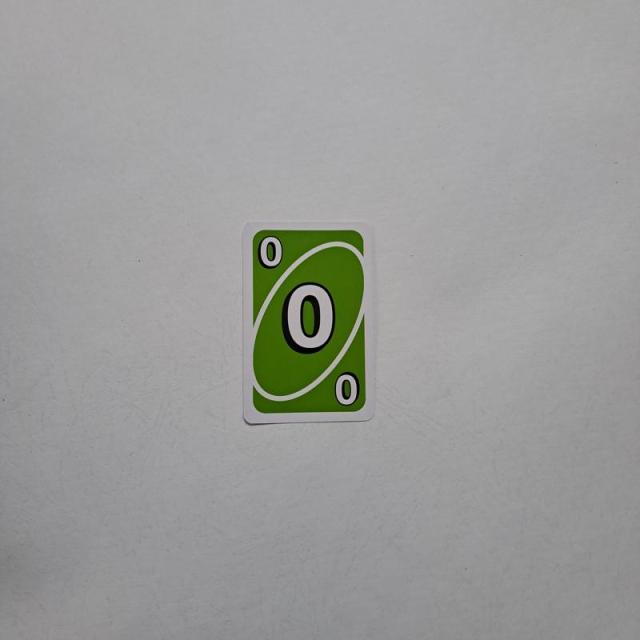Green_Card: (250, 224, 370, 416)
Number_0: (259, 228, 284, 271)
